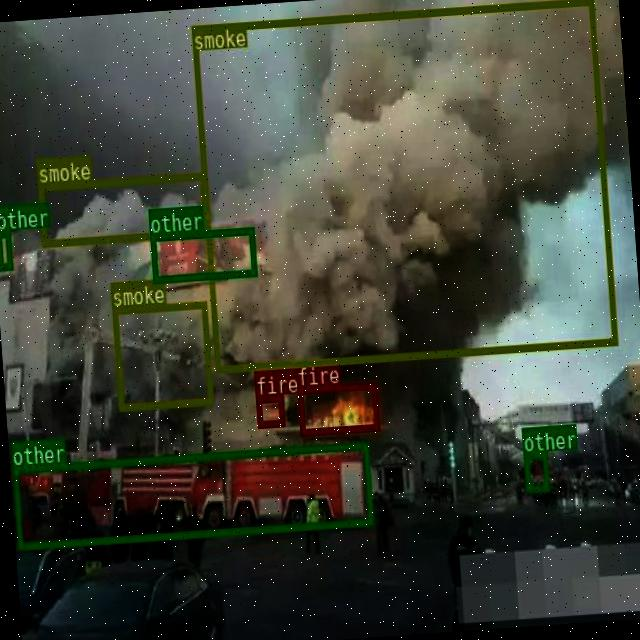fire: (296, 380, 379, 434), (254, 394, 284, 427)
smoke: (190, 0, 616, 370), (36, 172, 206, 246), (111, 299, 212, 410)
